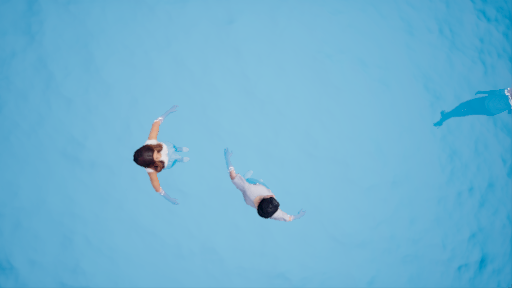person: (223, 148, 303, 229), (139, 104, 193, 212)
